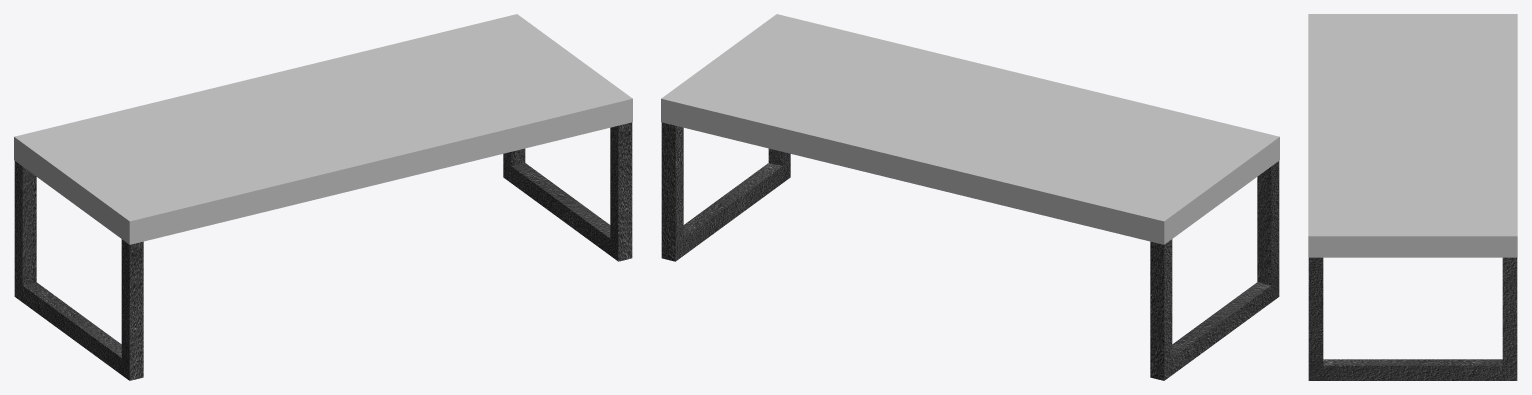
File: desk.fbx
3 views of the same model, side by side, from view 1: azimuth 30°, elevation 25°; view 2: azimuth 150°, elevation 25°; view 3: azimuth 270°, elevation 25° (orthographic). The views are drawn at different scales.
Parts seen in each view (by area): view 1: Cube, Cube.002; view 2: Cube, Cube.002; view 3: Cube, Cube.002.
Part boxes in pixels (x1,y1,x2,y2): Cube: [14, 14, 632, 244]; Cube.002: [14, 122, 632, 380]; Cube: [661, 14, 1279, 244]; Cube.002: [661, 122, 1279, 380]; Cube: [1308, 14, 1517, 257]; Cube.002: [1308, 257, 1517, 380].
Bounding box in the file's own units: 351 × 107 × 140.
